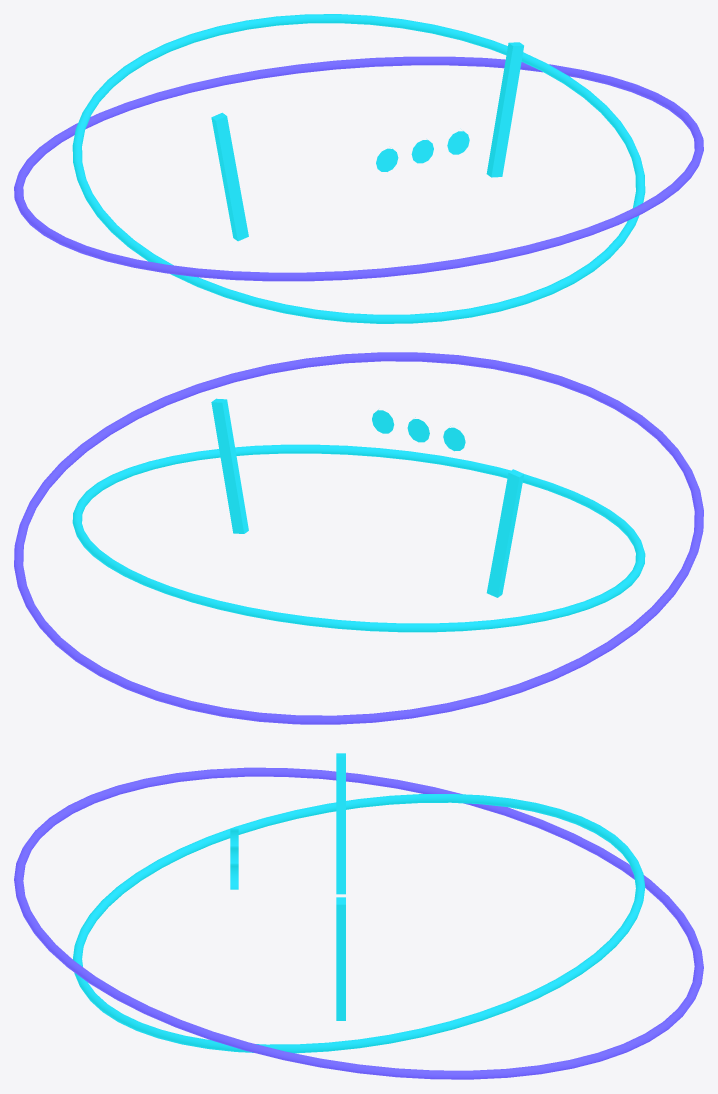
The model's file is avatar-aurora-kit-operador.glb.
3 renders of one model, top to bottom at view 1: azimuth 30°, elevation 25°; view 2: azimuth 150°, elevation 25°; view 3: azimuth 270°, elevation 25°, orthographic.
Parts seen in each view (by area): view 1: kit_aurora_operador_railB, kit_aurora_operador_railA, kit_aurora_operador_autoLineL, kit_aurora_operador_autoLineR; view 2: kit_aurora_operador_railB, kit_aurora_operador_railA, kit_aurora_operador_autoLineL, kit_aurora_operador_autoLineR; view 3: kit_aurora_operador_railB, kit_aurora_operador_railA, kit_aurora_operador_autoLineR, kit_aurora_operador_autoLineL.
Boxes of the visible parts, box(x1,y1,x2,y2) form: kit_aurora_operador_railB: box(14, 56, 703, 281); kit_aurora_operador_railA: box(72, 14, 645, 323); kit_aurora_operador_autoLineL: box(486, 42, 523, 177); kit_aurora_operador_autoLineR: box(211, 112, 248, 241); kit_aurora_operador_railB: box(14, 352, 703, 724); kit_aurora_operador_railA: box(72, 444, 645, 632); kit_aurora_operador_autoLineL: box(211, 398, 248, 533); kit_aurora_operador_autoLineR: box(486, 469, 524, 597); kit_aurora_operador_railB: box(14, 767, 703, 1079); kit_aurora_operador_railA: box(72, 794, 645, 1053); kit_aurora_operador_autoLineR: box(336, 753, 345, 894); kit_aurora_operador_autoLineL: box(336, 897, 345, 1020).
Bounding box in the file's own units: 1.18 × 0.2689 × 1.16.
